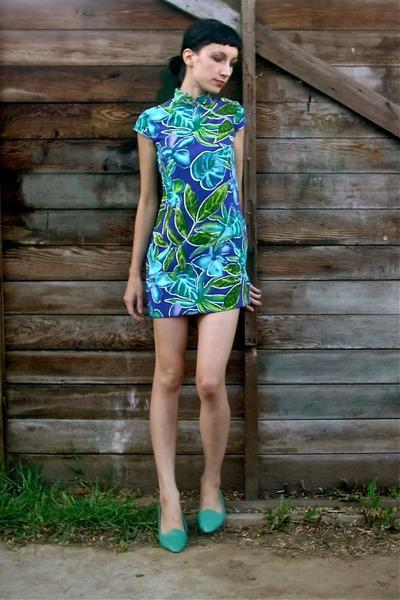dress: (136, 88, 291, 317)
shoe: (159, 506, 224, 552)
